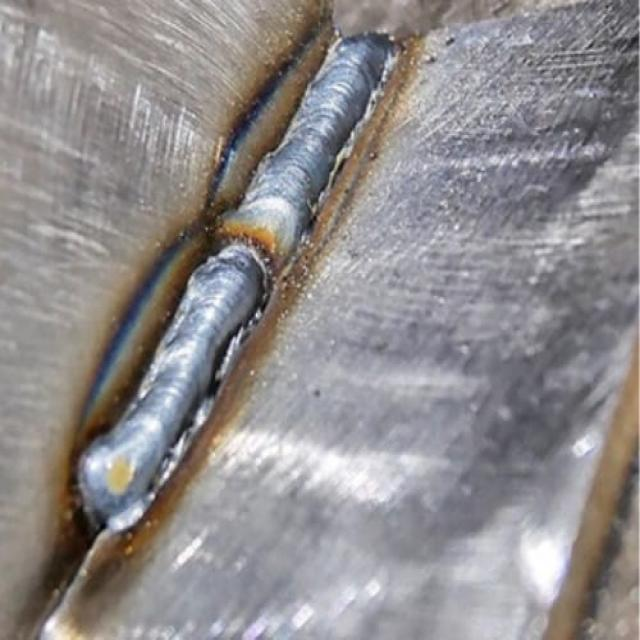Bad Welding: (68, 26, 392, 544)
Excess Reinforcement: (81, 242, 279, 525)
